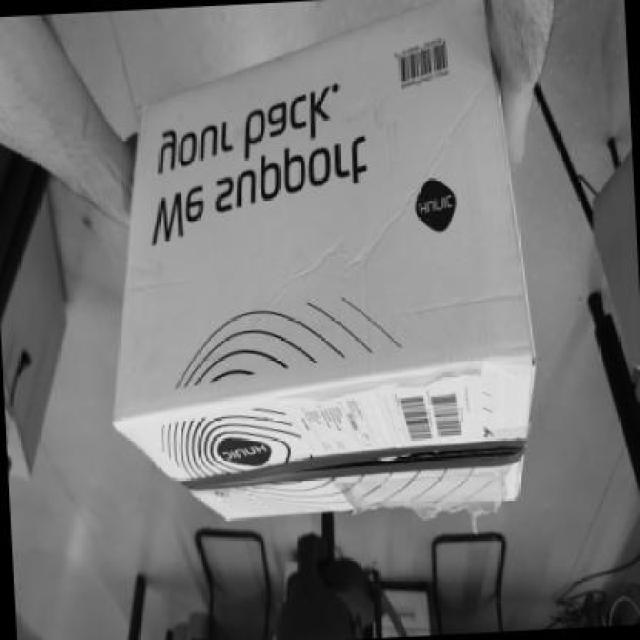box: (74, 0, 598, 560)
